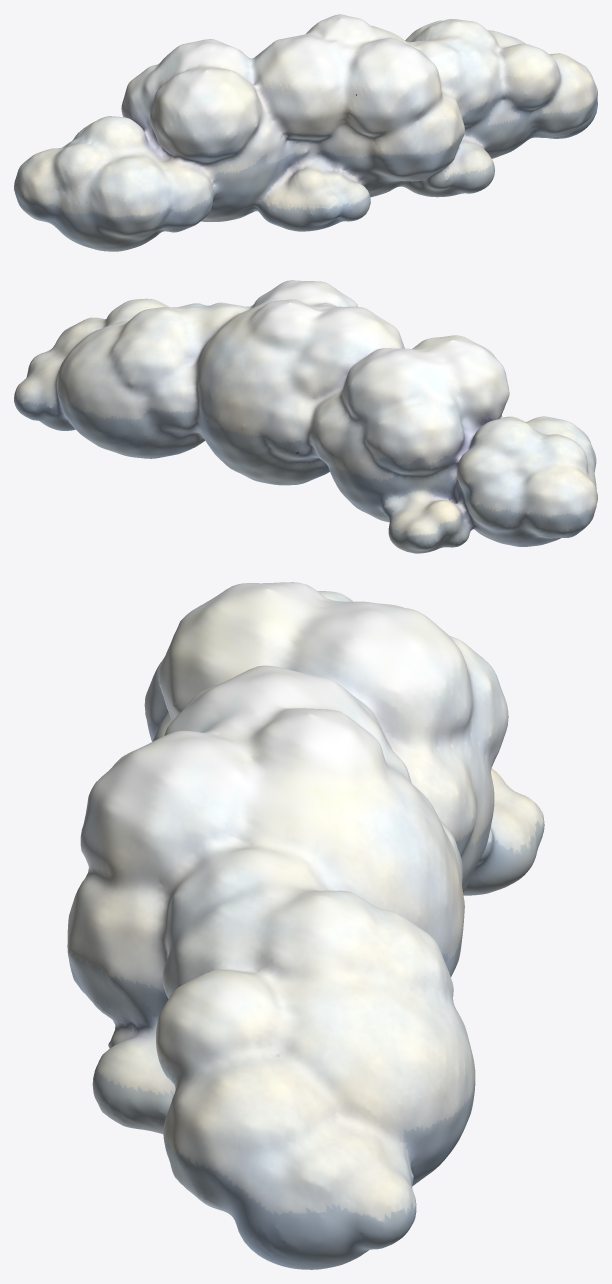
File: B05_CloudMass.fbx
3 views of the same model, one above another, from view 1: azimuth 30°, elevation 25°; view 2: azimuth 150°, elevation 25°; view 3: azimuth 270°, elevation 25° (orthographic). The views are drawn at different scales.
Parts seen in each view (by area): view 1: B05_CloudMass; view 2: B05_CloudMass; view 3: B05_CloudMass.
Part boxes in pixels (x1,y1,x2,y2): B05_CloudMass: (14, 14, 597, 251); B05_CloudMass: (14, 280, 597, 553); B05_CloudMass: (67, 582, 544, 1269).
Bounding box in the file's own units: 11.81 × 3.39 × 4.39.
